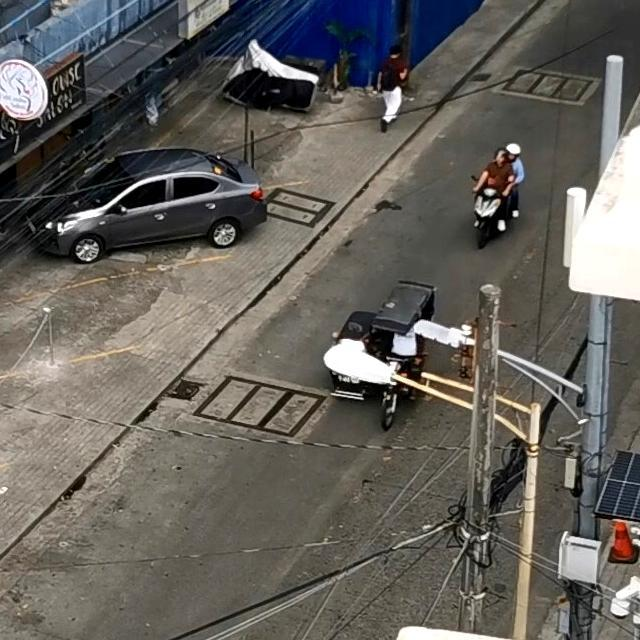Car: (28, 148, 256, 261)
